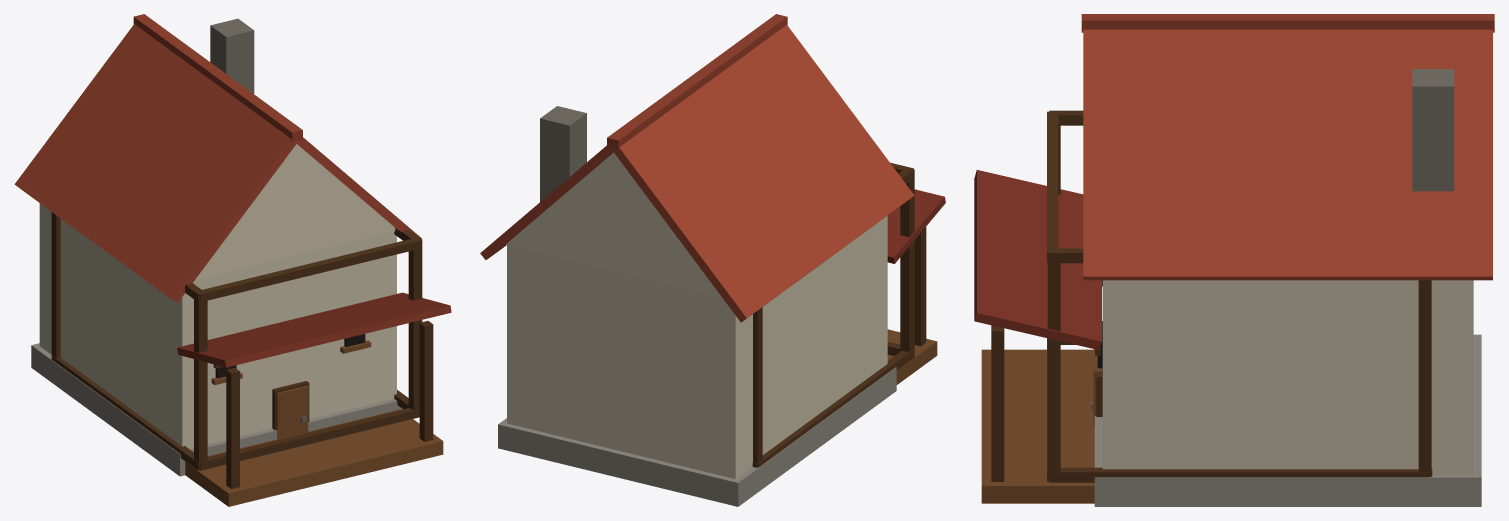
File: house_porch.glb
3 views of the same model, side by side, from view 1: azimuth 30°, elevation 25°; view 2: azimuth 150°, elevation 25°; view 3: azimuth 270°, elevation 25° (orthographic). The views are drawn at different scales.
Parts seen in each view (by area): view 1: house_porch; view 2: house_porch; view 3: house_porch.
Part boxes in pixels (bbox=[...]): house_porch: bbox=[14, 14, 451, 506]; house_porch: bbox=[480, 14, 945, 506]; house_porch: bbox=[974, 14, 1494, 506].
Bounding box in the file's own units: 2.33 × 2.86 × 3.22.
